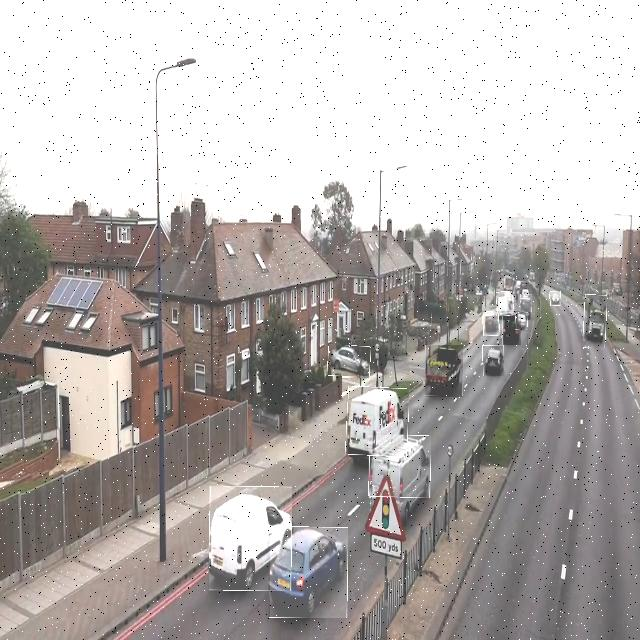Car: (209, 486, 292, 591), (270, 527, 348, 618), (328, 346, 370, 378), (483, 345, 504, 376), (502, 311, 521, 345), (496, 292, 514, 316), (483, 312, 499, 336), (516, 312, 528, 330), (520, 294, 532, 312), (550, 292, 561, 306)
Truck: (346, 387, 409, 457), (368, 435, 431, 498), (425, 346, 463, 398), (584, 295, 606, 348)
